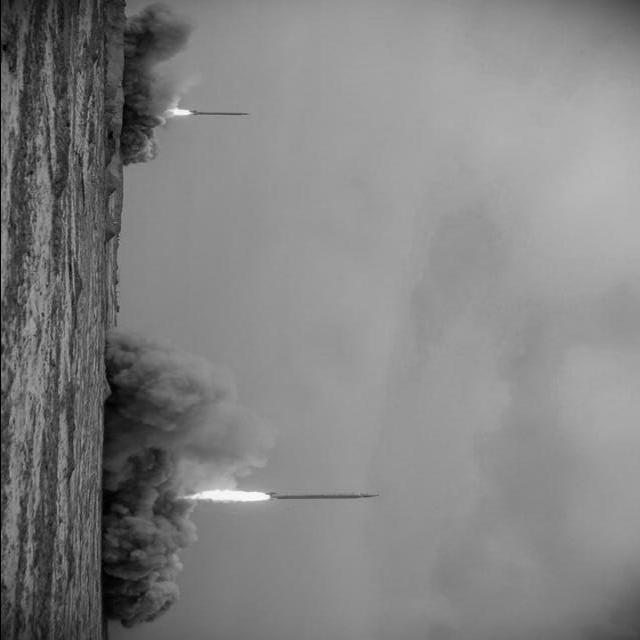missile: (261, 491, 379, 505), (192, 110, 252, 117)
